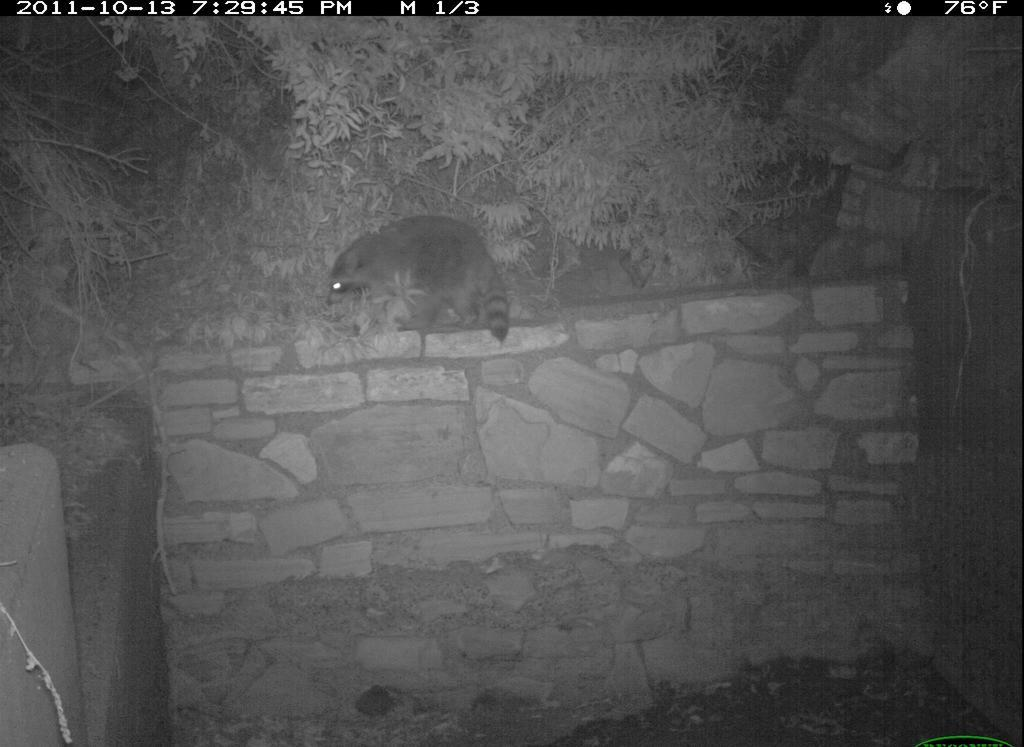raccoon: (322, 207, 530, 356)
